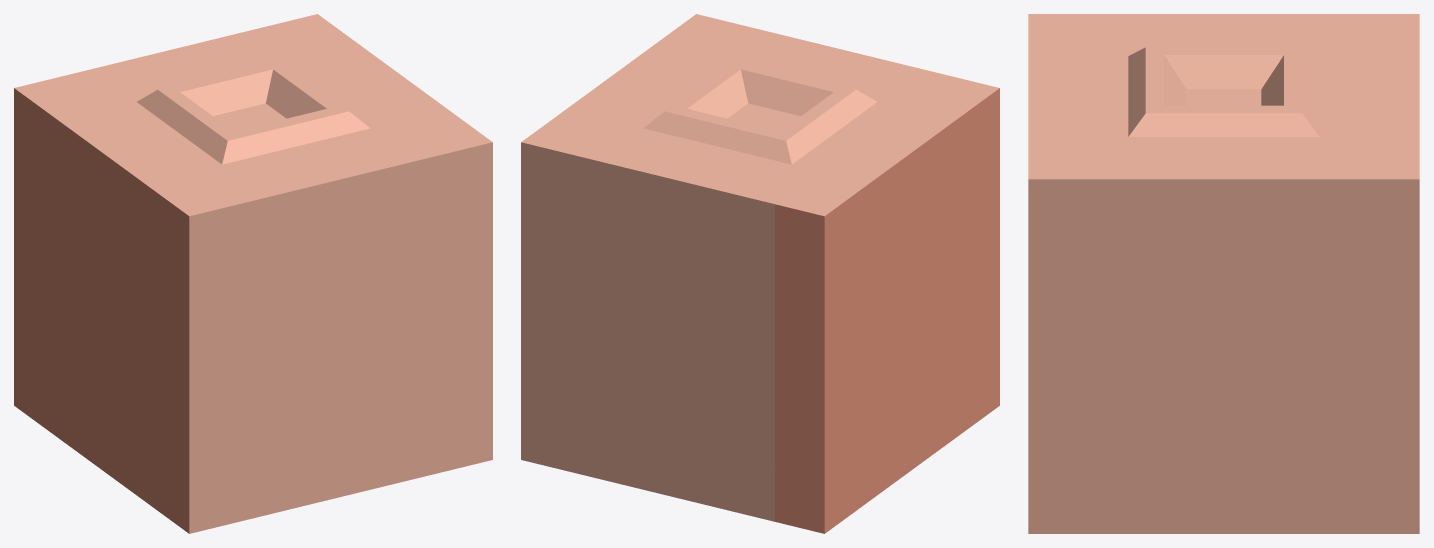
The model's file is BeaconCube.fbx.
3 renders of one model, left to right at view 1: azimuth 30°, elevation 25°; view 2: azimuth 150°, elevation 25°; view 3: azimuth 270°, elevation 25°, orthographic. The views are drawn at different scales.
Parts seen in each view (by area): view 1: Cube.101; view 2: Cube.101; view 3: Cube.101.
Part boxes in pixels (x1,y1,x2,y2): Cube.101: (14, 14, 492, 533); Cube.101: (521, 14, 999, 533); Cube.101: (1028, 14, 1419, 533).
Size of the model in its own units: 300 by 314 by 300.
